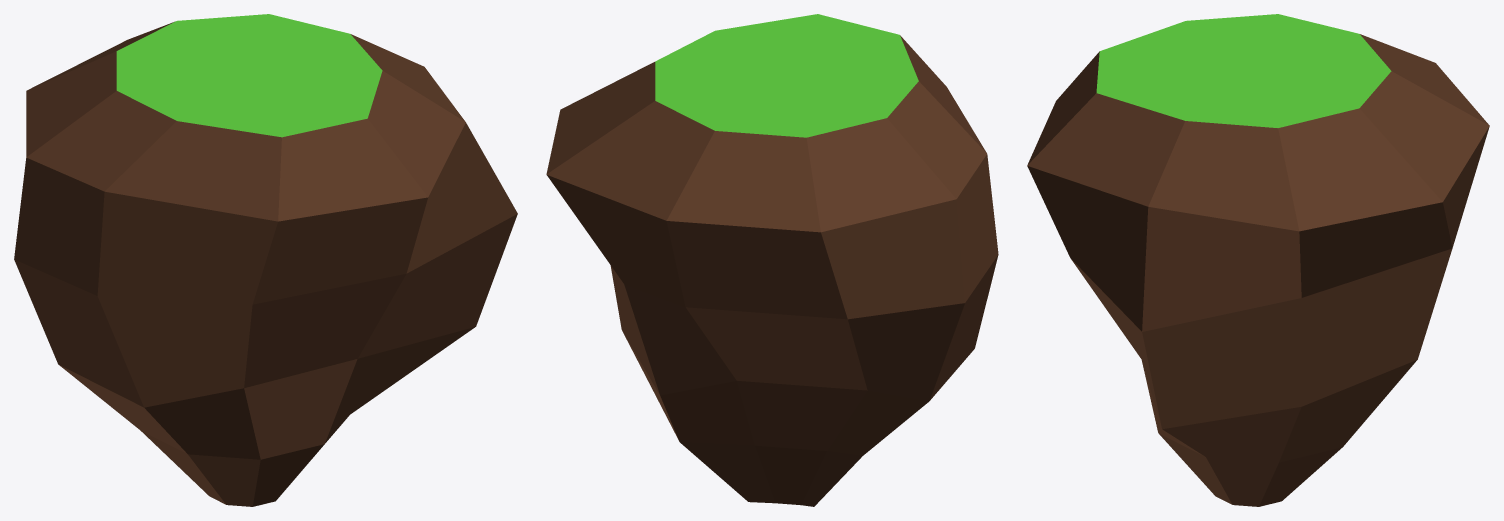
The model's file is rock w grass.fbx.
The picture shows the model from 3 angles, left to right: view 1: azimuth 30°, elevation 25°; view 2: azimuth 150°, elevation 25°; view 3: azimuth 270°, elevation 25°; orthographic projection.
Visible parts, largest first — view 1: Cylinder; view 2: Cylinder; view 3: Cylinder.
Boxes of the visible parts, left/top/right/bottom form: Cylinder: left=14, top=14, right=517, bottom=506; Cylinder: left=546, top=14, right=998, bottom=506; Cylinder: left=1027, top=14, right=1489, bottom=506.
Size of the model in its own units: 453 by 428 by 427.
